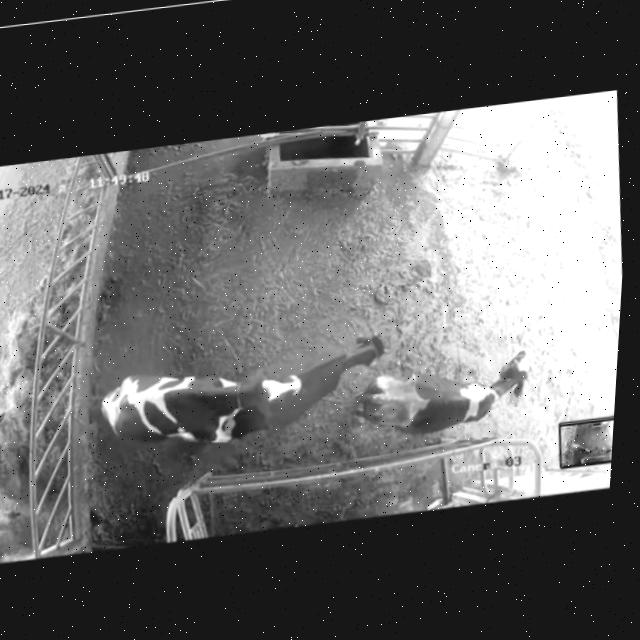ride: (80, 343, 312, 476)
stand: (226, 304, 396, 453), (348, 330, 544, 449)
